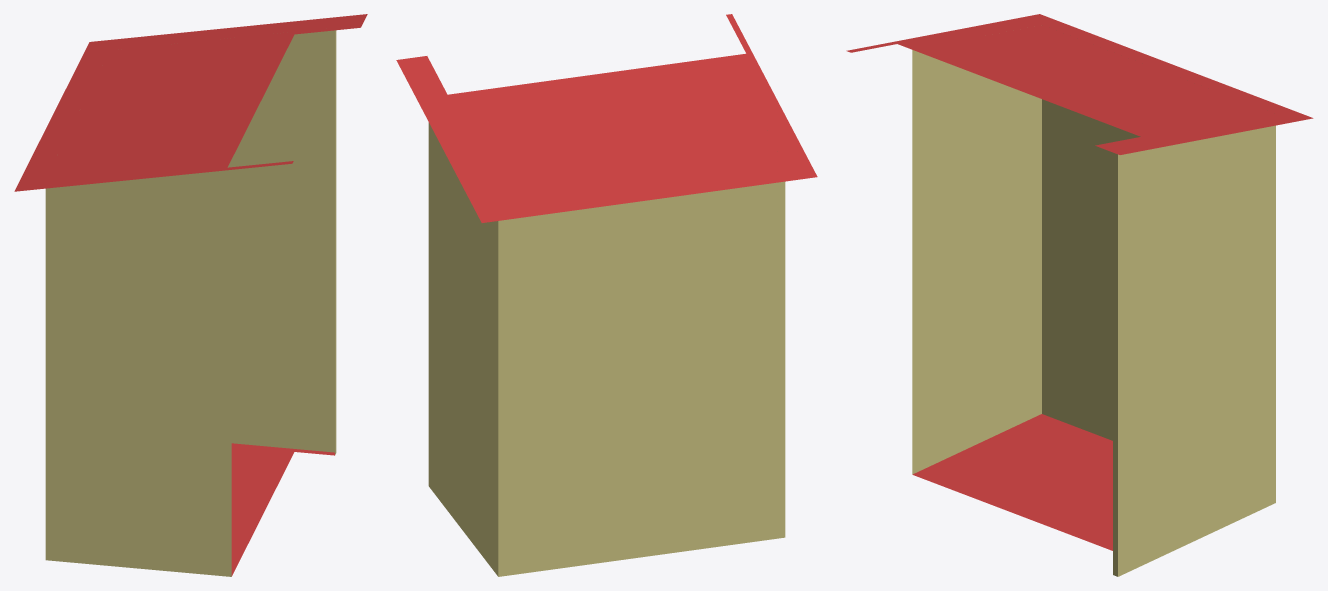
The picture shows the model from 3 angles, left to right: view 1: azimuth 30°, elevation 25°; view 2: azimuth 150°, elevation 25°; view 3: azimuth 270°, elevation 25°; orthographic projection. The views are drawn at different scales.
Size of the model in its own units: 8.58 by 8.69 by 8.97.
